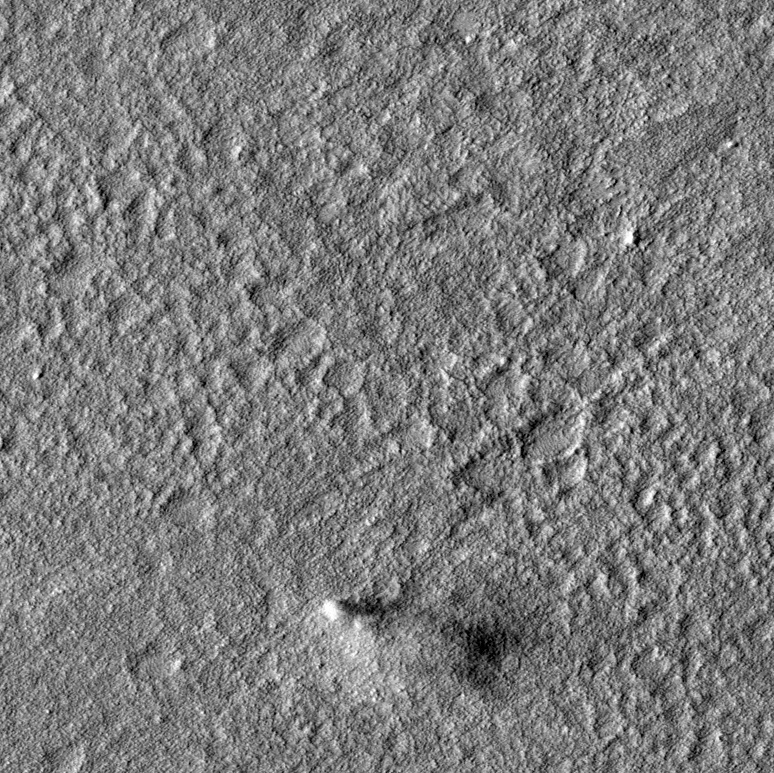dust_devil: (318, 591, 527, 705)
